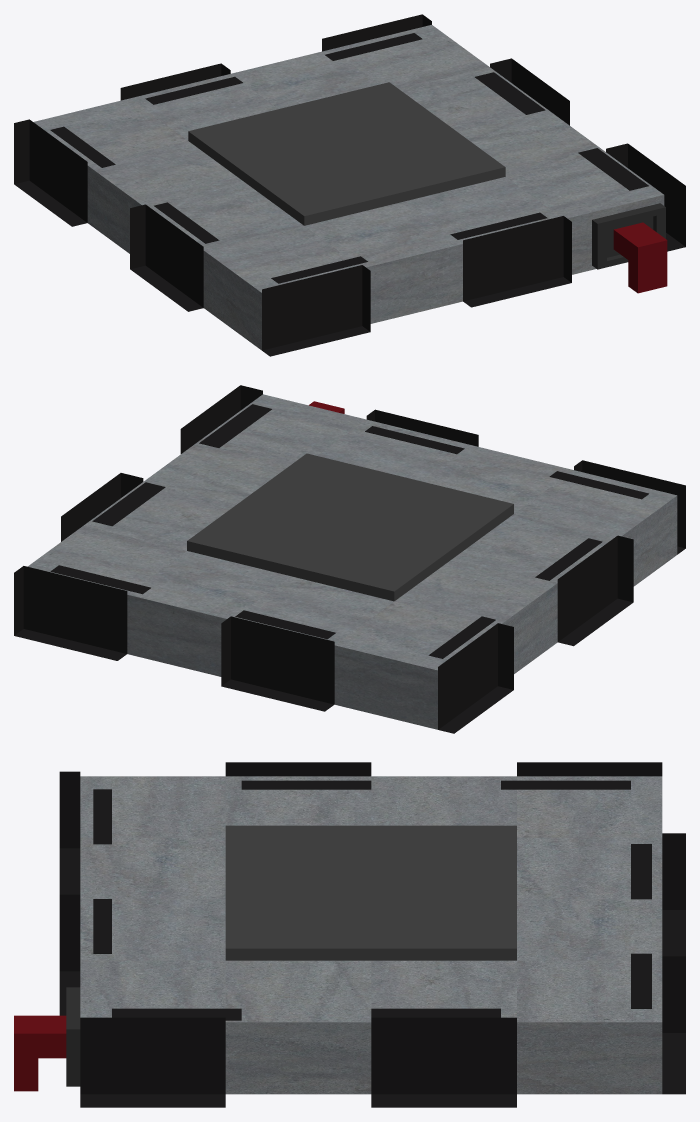
Rendered from pressurePlate.glb.
3 views of the same model, one above another, from view 1: azimuth 30°, elevation 25°; view 2: azimuth 150°, elevation 25°; view 3: azimuth 270°, elevation 25° (orthographic). The views are drawn at different scales.
Visible parts, largest first — view 1: Plane, Plane.001, Plane.002, Cube.001, Cube; view 2: Plane, Plane.001, Plane.002; view 3: Plane, Plane.001, Plane.002, Cube.001, Cube.
Part boxes in pixels (x1=…): Plane: x1=33, y1=25, x2=664, y2=350; Plane.001: x1=14, y1=14, x2=685, y2=356; Plane.002: x1=188, y1=82, x2=505, y2=225; Cube.001: x1=613, y1=222, x2=667, y2=293; Cube: x1=592, y1=203, x2=665, y2=269; Plane: x1=28, y1=394, x2=677, y2=729; Plane.001: x1=14, y1=385, x2=685, y2=733; Plane.002: x1=187, y1=453, x2=513, y2=601; Plane: x1=80, y1=776, x2=662, y2=1094; Plane.001: x1=59, y1=762, x2=685, y2=1107; Plane.002: x1=225, y1=825, x2=516, y2=960; Cube.001: x1=14, y1=1015, x2=66, y2=1091; Cube: x1=66, y1=987, x2=80, y2=1086.
Size of the model in its own units: 2.19 by 0.3616 by 2.31.
Materials: 5 (1 with a texture image).
